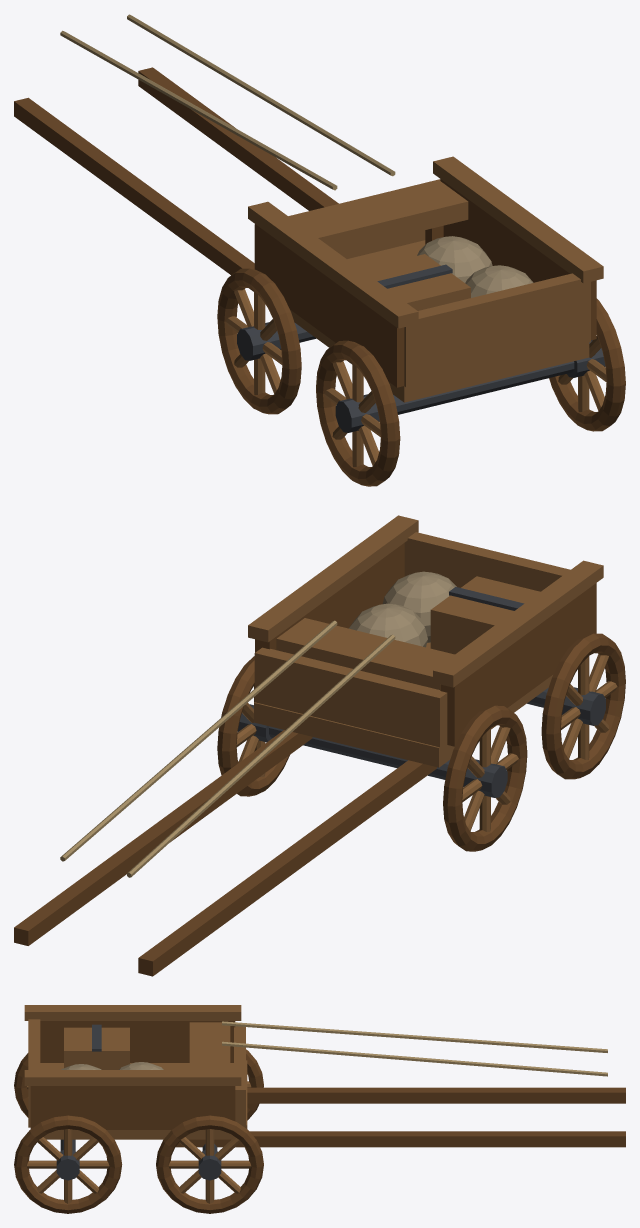
Rendered from cart.glb.
The picture shows the model from 3 angles, top to bottom: view 1: azimuth 30°, elevation 25°; view 2: azimuth 150°, elevation 25°; view 3: azimuth 270°, elevation 25°; orthographic projection. The views are drawn at different scales.
Visible parts, largest first — view 1: CaravanCart, Wheel0, Wheel2, Wheel1; view 2: CaravanCart, Wheel0, Wheel2, Wheel3; view 3: CaravanCart, Wheel3, Wheel1, Wheel0, Wheel2.
Boxes of the visible parts, <box> form: CaravanCart: <box>14,14,603,414</box>; Wheel0: <box>316,340,400,486</box>; Wheel2: <box>217,268,301,414</box>; Wheel1: <box>549,298,625,431</box>; CaravanCart: <box>14,515,603,976</box>; Wheel0: <box>541,633,625,779</box>; Wheel2: <box>443,705,527,851</box>; Wheel3: <box>217,656,289,796</box>; CaravanCart: <box>24,1005,625,1150</box>; Wheel3: <box>156,1115,263,1213</box>; Wheel1: <box>14,1115,122,1213</box>; Wheel0: <box>14,1053,28,1117</box>; Wheel2: <box>246,1049,263,1120</box>.
Bounding box in the file's own units: 1.76 × 1.31 × 5.09.
